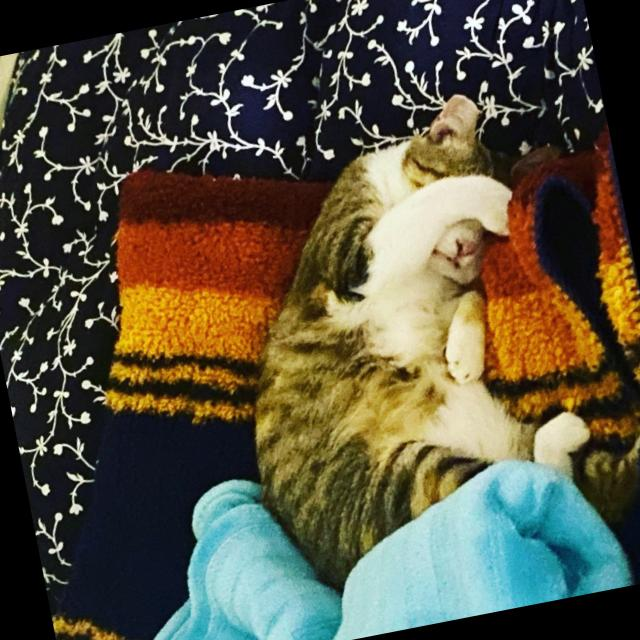cat2: (189, 84, 592, 610)
